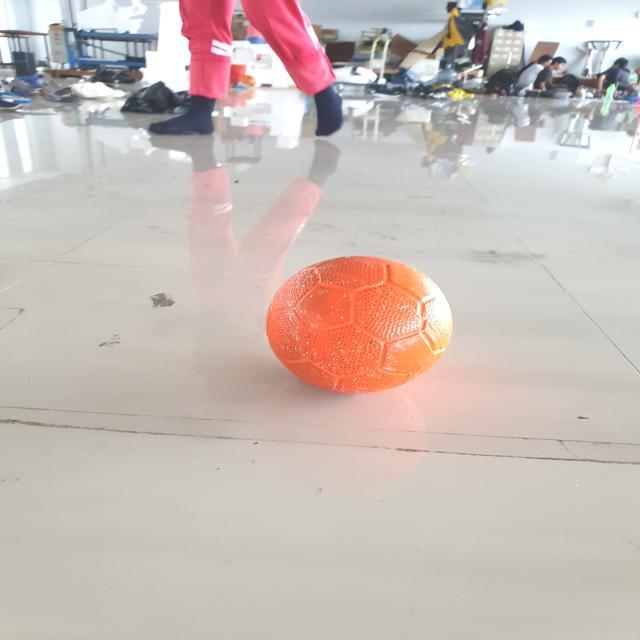bola: (258, 245, 462, 402)
